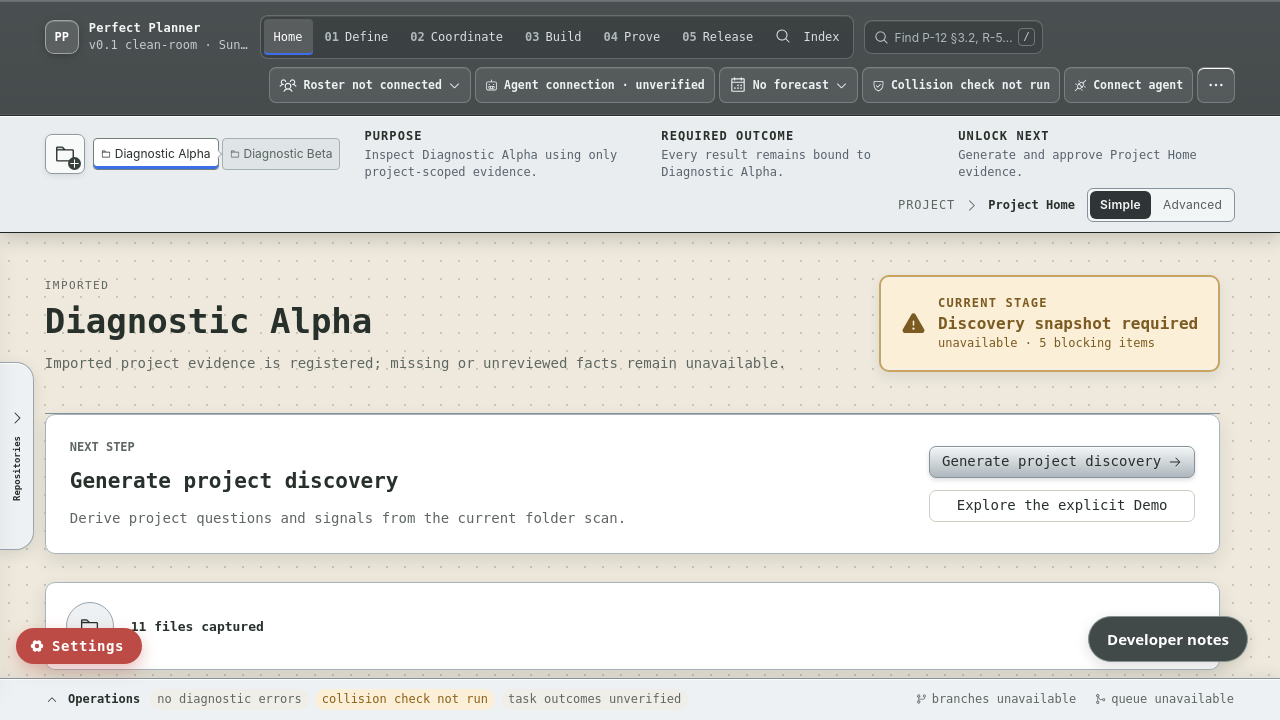
Test: shared-shell truthfulness outside explicit Demo mode › diagnostic rows follow the active project and never leak across a project switch
Expected: the heading "Diagnostic Alpha" is shown, [45, 301, 372, 341]
Click the button with aria-label "Build" at (553, 37), box [515, 19, 592, 55]
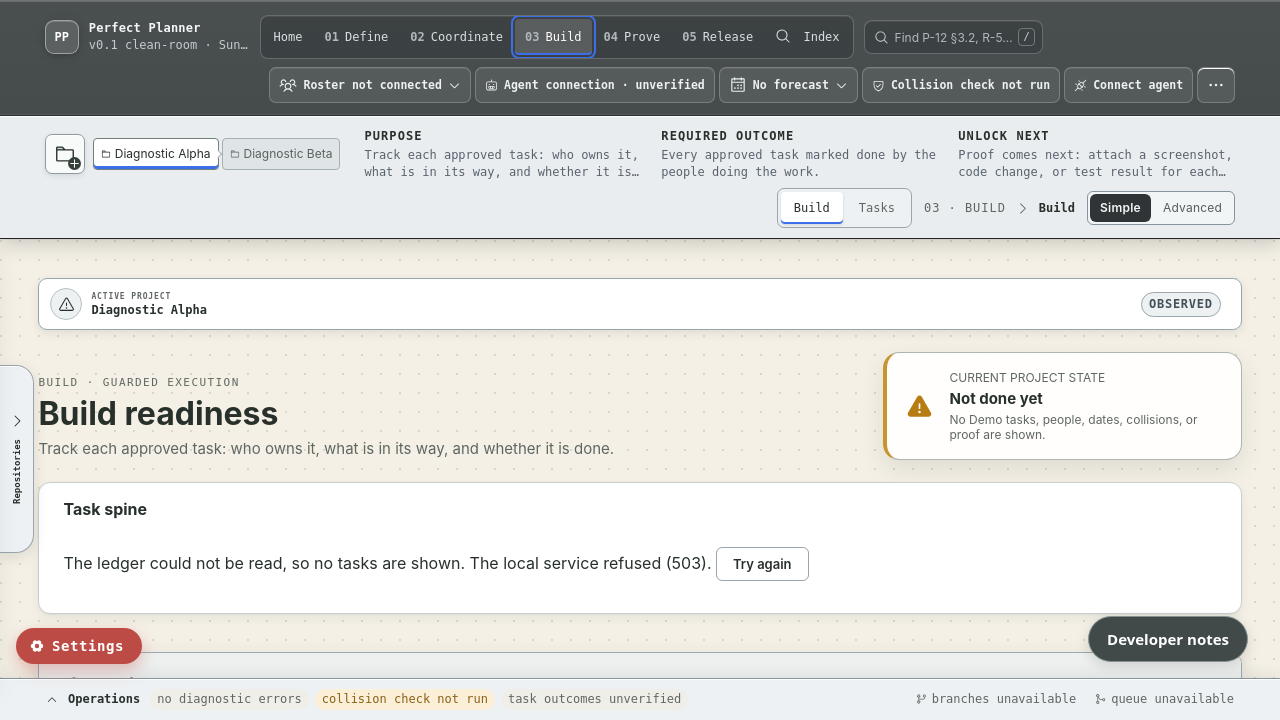
Expected: the element named "Diagnostic Alpha build workflow" is shown
Click the button "Diagnostic Beta" at (281, 154), box [222, 138, 340, 170]
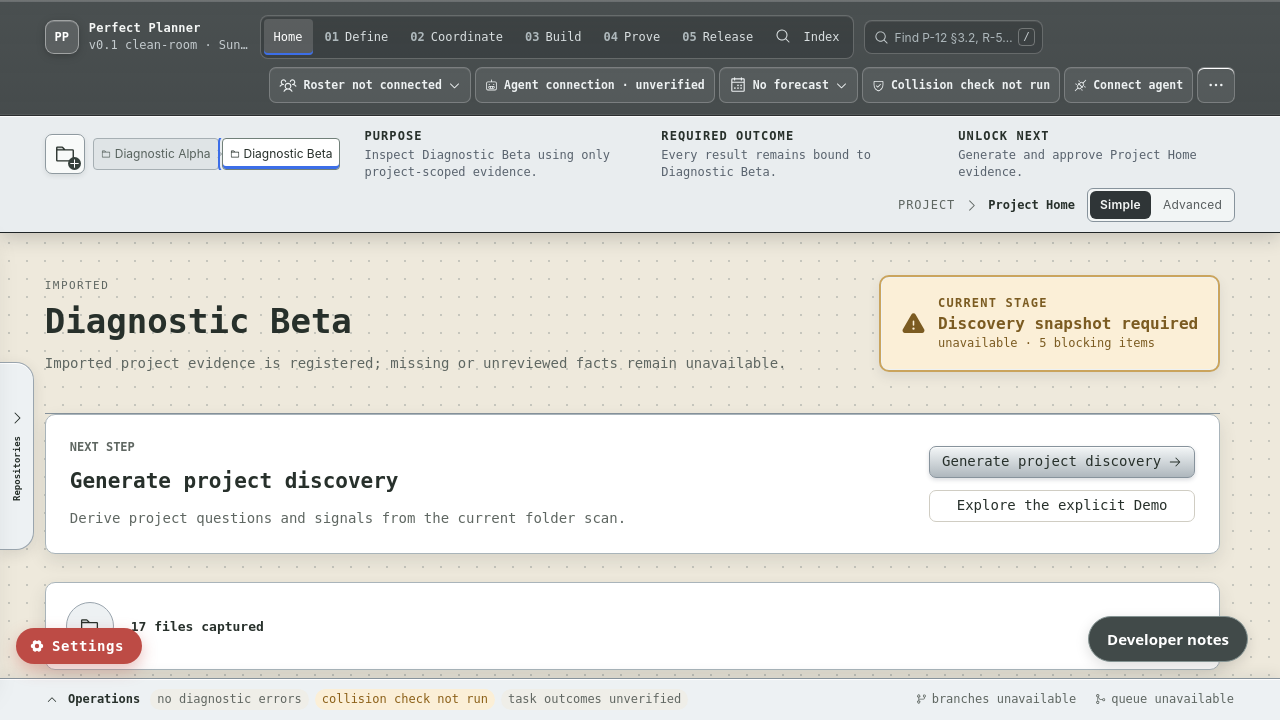
Expected: the heading "Diagnostic Beta" is shown, [45, 301, 352, 341]
Click the button with aria-label "Prove" at (632, 37), box [594, 19, 670, 55]
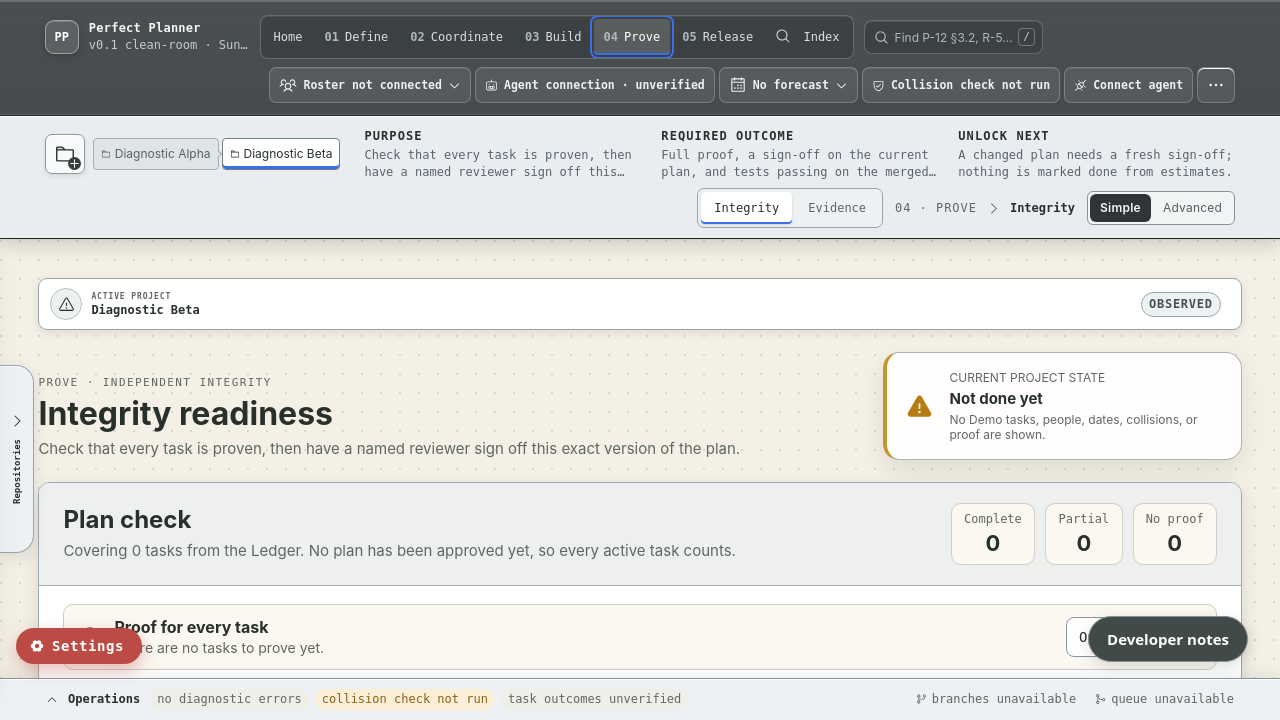
Expected: the element named "Diagnostic Beta integrity workflow" is shown
Click the button "Operations" at (640, 700), box [0, 679, 1279, 719]
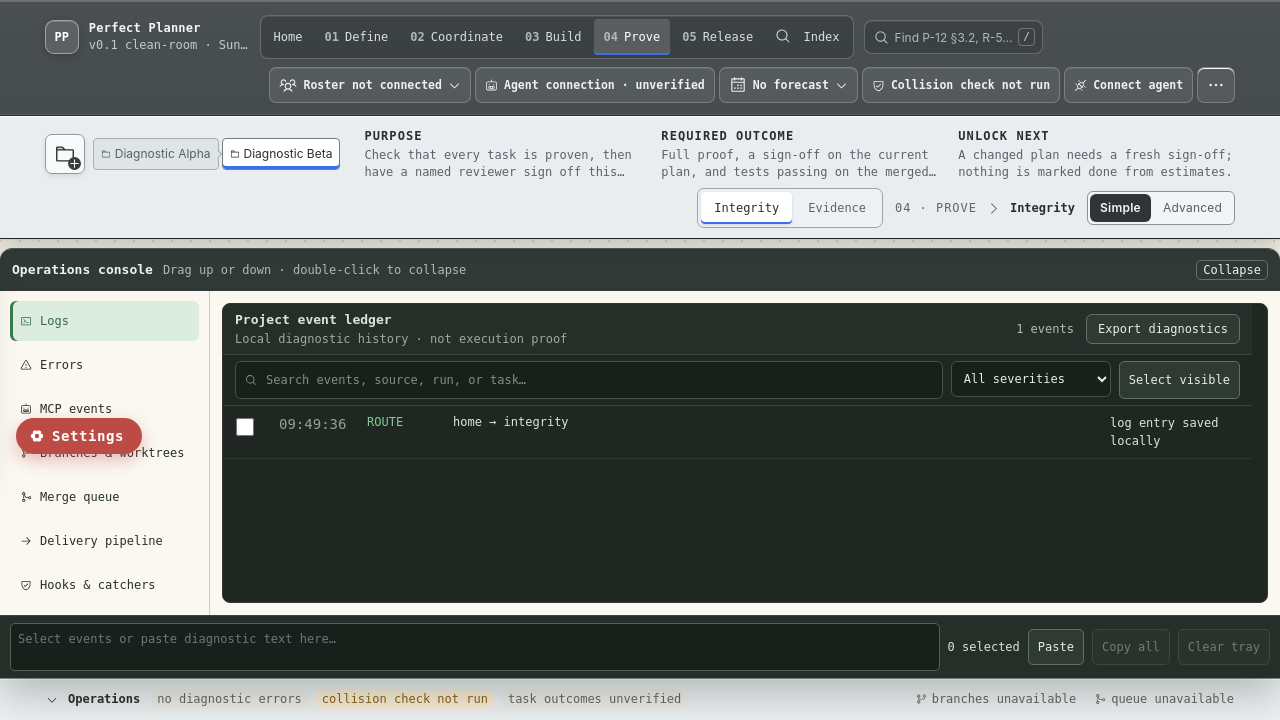
Expected: the element "Application logs" does not show "home → build"
Expected: the element named "Application logs" shows "home → integrity", [453, 415, 569, 429]
Click the button "Diagnostic Alpha" at (156, 154), box [93, 138, 218, 170]
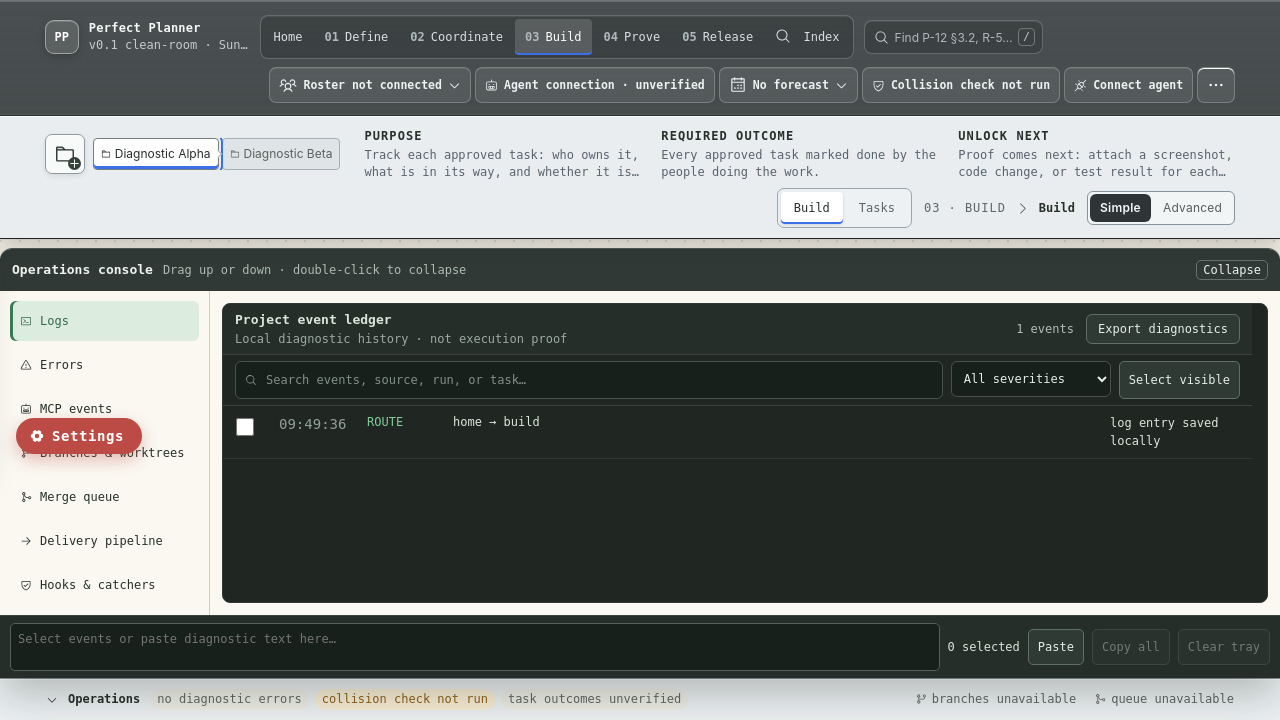
Expected: the element named "Diagnostic Alpha build workflow" is shown, [0, 240, 1279, 468]
Expected: the element named "Application logs" shows "home → build", [453, 415, 540, 429]
Expected: the heading "Application logs" no longer shows "home → integrity"
